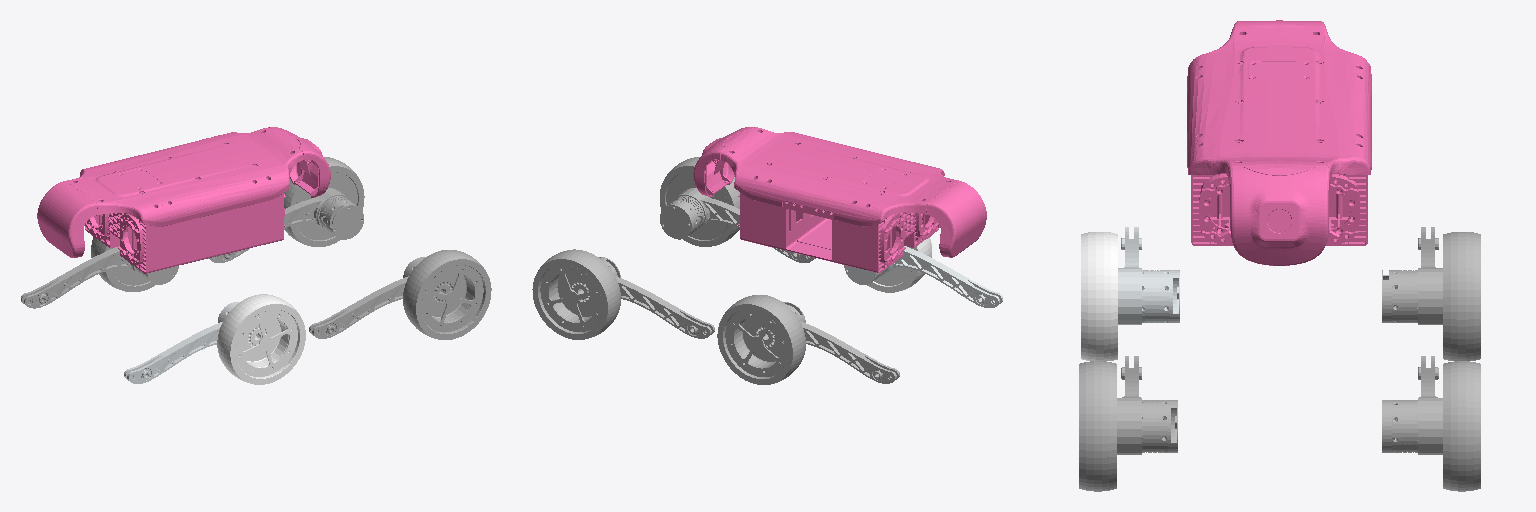
robot.urdf — Ddogw:
<?xml version="1.0" encoding="utf-8"?>

<robot name="Ddogw">
  <link name="base_link">
    <inertial>
        <origin xyz="-0.003493 0.001309 0.008923" rpy="0 0 0" />
      <mass value="7.3" />
      <inertia ixx="0.03727735" ixy="-0.000050632" ixz="0.00111826" iyy="0.131154395" iyz="0.000160446" izz="0.150359256" />
    </inertial>
    <visual>
      <origin xyz="0 0 0" rpy="0 0 0" />
      <geometry>
        <mesh filename="../meshes/base_link.STL" />
      </geometry>
      <material name="">
        <color rgba="1 0.5 0.75294 1" />
      </material>
    </visual>
    <collision>
      <origin xyz="0 0 0" rpy="0 0 0" />
      <geometry>
        <box size="0.28 0.216 0.112"/>
      </geometry>
    </collision>
  </link>

  <link name="FL_hip">
    <inertial>
      <origin xyz="-0.001963 0.001357 0" rpy="0 0 0" />
      <mass value="0.718" />
      <inertia ixx="0.000359936" ixy="-0.000004579" ixz="0.000000011" iyy="0.000431888" iyz="-0.000000013" izz="0.000398364" />
    </inertial>
    <visual>
      <origin xyz="0 0 0" rpy="0 0 0" />
      <geometry>
        <mesh filename="../meshes/FL_HIP_Link.STL" />
      </geometry>
      <material name="">
        <color rgba="0.75294 0.75294 0.75294 1" />
      </material>
    </visual>
    <collision>
      <origin xyz="0.0 0.0 0" rpy="1.57 0 0" />
      <geometry>
       <cylinder length="0.05" radius="0.03"/>
      </geometry>
    </collision>
  </link>

  <joint name="FL_hip_joint" type="revolute">
    <origin xyz="0.1875 0.062 0" rpy="0 0 0" />
    <parent link="base_link" />
    <child link="FL_hip" />
    <axis xyz="1 0 0" />
    <limit lower="-0.5" upper="0.5" effort="27" velocity="27" />
  </joint>

  <link name="FL_thigh">
    <inertial>
      <origin xyz="-0.002987 -0.02756 -0.021782" rpy="0 0 0" />
      <mass value="0.96" />
      <inertia ixx="0.003158375" ixy="-0.000079198" ixz="0.000246623" iyy="0.002941752" iyz="-0.000581791" izz="0.000812062" />
    </inertial>
    <visual>
      <origin xyz="0 0 0" rpy="0 0 0" />
      <geometry>
        <mesh filename="../meshes/FL_THIGH_Link.STL" />
      </geometry>
      <material name="">
        <color rgba="0.5 0.2 0.8 1.0" />
      </material>
    </visual>
    <collision>
      <origin xyz="0.0 -0.03 0" rpy="1.57 0 0" />
      <geometry>
        <cylinder length="0.10" radius="0.03"/>
      </geometry>
    </collision>
    <collision>
      <origin xyz="-0.015 0.0 -0.105" rpy="0.0 0 0" />
      <geometry>
        <cylinder length="0.10" radius="0.018"/>
      </geometry>
    </collision>
  </link>

  <joint name="FL_thigh_joint" type="revolute">
    <origin xyz="0 0.12 0" rpy="0 0 0" />
    <parent link="FL_hip" />
    <child link="FL_thigh" />
    <axis xyz="0 1 0" />
    <limit lower="-1.85" upper="3.4" effort="27" velocity="27" />
  </joint>

  <link name="FL_calf">
    <inertial>
      <origin xyz="0.001726 -0.01621 -0.191896" rpy="0 0 0" />
      <mass value="0.37" />
      <inertia ixx="0.004225328" ixy="0.000032167" ixz="-0.000103096" iyy="0.004090407" iyz="-0.000385909" izz="0.000762904" />
    </inertial>
    <visual>
      <origin xyz="0 0 0" rpy="0 0 0" />
      <geometry>
        <mesh filename="../meshes/FL_CALF_Link.STL" />
      </geometry>
      <material name="">
        <color rgba="0.75294 0.75294 0.75294 1" />
      </material>
    </visual>
    <collision>
      <origin xyz="0.018 0 -0.140" rpy="0 0.13 0" />
      <geometry>
        <cylinder length="0.06" radius="0.015"/>
      </geometry>
    </collision>
  </link>

  <link name="FL_foot_motor">
    <inertial>
      <origin xyz="0 0 0" rpy="0 0 0" />
      <mass value="0.50" />
      <inertia ixx="0.001" ixy="0" ixz="0" iyy="0.0015" iyz="0" izz="0.001" />
    </inertial>
    <collision>
      <origin xyz="0 0 0" rpy="1.57 0 0" />
      <geometry>
        <cylinder length="0.05" radius="0.03"/>
      </geometry>
    </collision>
  </link>
  <joint name="FL_foot_motor_joint" type="fixed" dont_collapse="true">
    <origin xyz="0 -0.01 -0.219" rpy="0 0 0" />
    <parent link="FL_calf" />
    <child link="FL_foot_motor" />
  </joint>

  <joint name="FL_calf_joint" type="revolute">
    <origin xyz="0 0 -0.2" rpy="0 0 0" />
    <parent link="FL_thigh" />
    <child link="FL_calf" />
    <axis xyz="0 1 0" />
    <limit lower="-2.757" upper="-0.66" effort="27" velocity="27" />
  </joint>

  <link name="FL_foot">
    <inertial>
      <origin xyz="0 0.037693 0" rpy="0 0 0" />
      <mass value="0.9" />
      <inertia ixx="0.001774065" ixy="0" ixz="0" iyy="0.003256651" iyz="0" izz="0.001774065" />
    </inertial>
    <visual>
      <origin xyz="0 0 0" rpy="0 0 0" />
      <geometry>
        <mesh filename="../meshes/FL_FOOT_Link.STL" />
      </geometry>
      <material name="">
        <color rgba="0.75294 0.75294 0.75294 1" />
      </material>
    </visual>
    <collision>
      <origin xyz="0.0 0.042 0.0" rpy="1.57 0 0" />
      <geometry>
        <cylinder length="0.038" radius="0.08"/>
      </geometry>
    </collision>
  </link>

  <joint name="FL_foot_joint" type="revolute">
    <origin xyz="0 0 -0.219" rpy="0 0 0" />
    <parent link="FL_calf" />
    <child link="FL_foot" />
    <axis xyz="0 1 0" />
    <limit lower="-999999" upper="999999" effort="27" velocity="27" />
  </joint>


  <link name="FR_hip">
    <inertial>
      <origin xyz="-0.001963 -0.001357 0" rpy="0 0 0" />
      <mass value="0.718" />
      <inertia ixx="0.000359936" ixy="0.000004579" ixz="-0.000000011" iyy="0.000431888" iyz="-0.000000013" izz="0.000398364" />
    </inertial>
    <visual>
      <origin xyz="0 0 0" rpy="0 0 0" />
      <geometry>
        <mesh filename="../meshes/FR_HIP_Link.STL" />
      </geometry>
      <material name="">
        <color rgba="0.75294 0.75294 0.75294 1" />
      </material>
    </visual>
    <collision>
      <origin xyz="0.0 0.0 0" rpy="1.57 0 0" />
      <geometry>
       <cylinder length="0.05" radius="0.03"/>
      </geometry>
    </collision>
  </link>

  <joint name="FR_hip_joint" type="revolute">
    <origin xyz="0.1875 -0.062 0" rpy="0 0 0" />
    <parent link="base_link" />
    <child link="FR_hip" />
    <axis xyz="1 0 0" />
    <limit lower="-0.5" upper="0.5" effort="27" velocity="27" />
  </joint>

  <link name="FR_thigh">
    <inertial>
      <origin xyz="-0.002987 0.02756 -0.021782" rpy="0 0 0" />
      <mass value="0.96" />
      <inertia ixx="0.003158375" ixy="0.000079198" ixz="0.000246623" iyy="0.002941752" iyz="0.000581791" izz="0.000812062" />
    </inertial>
    <visual>
      <origin xyz="0 0 0" rpy="0 0 0" />
      <geometry>
        <mesh filename="../meshes/FR_THIGH_Link.STL" />
      </geometry>
      <material name="">
        <color rgba="0.5 0.2 0.8 1.0" />
      </material>
    </visual>
    <collision>
      <origin xyz="0.0 0.03 0" rpy="1.57 0 0" />
      <geometry>
        <cylinder length="0.10" radius="0.03"/>
      </geometry>
    </collision>
    <collision>
      <origin xyz="-0.015 0.0 -0.105" rpy="0.0 0 0" />
      <geometry>
        <cylinder length="0.10" radius="0.018"/>
      </geometry>
    </collision>
  </link>


  <joint name="FR_thigh_joint" type="revolute">
    <origin xyz="0 -0.12 0" rpy="0 0 0" />
    <parent link="FR_hip" />
    <child link="FR_thigh" />
    <axis xyz="0 1 0" />
    <limit lower="-1.85" upper="3.4" effort="27" velocity="27" />
  </joint>

  <link name="FR_calf">
    <inertial>
      <origin xyz="0.001726 0.01621 -0.191896" rpy="0 0 0" />
      <mass value="0.37" />
      <inertia ixx="0.004225328" ixy="0.000032167" ixz="-0.000103096" iyy="0.004090407" iyz="0.000385909" izz="0.000762904" />
    </inertial>
    <visual>
      <origin xyz="0 0 0" rpy="0 0 0" />
      <geometry>
        <mesh filename="../meshes/FR_CALF_Link.STL" />
      </geometry>
      <material name="">
        <color rgba="0.75294 0.75294 0.75294 1" />
      </material>
    </visual>
    <collision>
      <origin xyz="0.018 0 -0.14" rpy="0 0.13 0" />
      <geometry>
        <cylinder length="0.06" radius="0.015"/>
      </geometry>
    </collision>
  </link>

  <link name="FR_foot_motor">
    <inertial>
      <origin xyz="0 0 0" rpy="0 0 0" />
      <mass value="0.50" />
      <inertia ixx="0.001" ixy="0" ixz="0" iyy="0.0015" iyz="0" izz="0.001" />
    </inertial>
    <collision>
      <origin xyz="0 0 0" rpy="1.57 0 0" />
      <geometry>
        <cylinder length="0.05" radius="0.03"/>
      </geometry>
    </collision>
  </link>
  <joint name="FR_foot_motor_joint" type="fixed" dont_collapse="true">
    <origin xyz="0 0.01 -0.219" rpy="0 0 0" />
    <parent link="FR_calf" />
    <child link="FR_foot_motor" />
  </joint>

  <joint name="FR_calf_joint" type="revolute">
    <origin xyz="0 0 -0.2" rpy="0 0 0" />
    <parent link="FR_thigh" />
    <child link="FR_calf" />
    <axis xyz="0 1 0" />
    <limit lower="-2.757" upper="-0.66" effort="27" velocity="27" />
  </joint>

  <link name="FR_foot">
    <inertial>
      <origin xyz="0 -0.037693 0" rpy="0 0 0" />
      <mass value="0.9" />
      <inertia ixx="0.001774065" ixy="0" ixz="0" iyy="0.003256651" iyz="0" izz="0.001774065" />
    </inertial>
    <visual>
      <origin xyz="0 0 0" rpy="0 0 0" />
      <geometry>
        <mesh filename="../meshes/FR_FOOT_Link.STL" />
      </geometry>
      <material name="">
        <color rgba="0.75294 0.75294 0.75294 1" />
      </material>
    </visual>
    <collision>
      <origin xyz="0.0 -0.042 0.0" rpy="1.57 0 0" />
      <geometry>
        <cylinder length="0.038" radius="0.08"/>
      </geometry>
    </collision>
  </link>

  <joint name="FR_foot_joint" type="revolute">
    <origin xyz="0 0 -0.219" rpy="0 0 0" />
    <parent link="FR_calf" />
    <child link="FR_foot" />
    <axis xyz="0 1 0" />
    <limit lower="-999999" upper="999999" effort="27" velocity="27" />
  </joint>


  <link name="RL_hip">
    <inertial>
      <origin xyz="0.001963 0.001357 0" rpy="0 0 0" />
      <mass value="0.718" />
      <inertia ixx="0.000359936" ixy="0.000004579" ixz="0.000000011" iyy="0.000431888" iyz="0.000000013" izz="0.000398364" />
    </inertial>
    <visual>
      <origin xyz="0 0 0" rpy="0 0 0" />
      <geometry>
        <mesh filename="../meshes/RL_HIP_Link.STL" />
      </geometry>
      <material name="">
        <color rgba="0.75294 0.75294 0.75294 1" />
      </material>
    </visual>
    <collision>
      <origin xyz="0.0 0.0 0" rpy="1.57 0 0" />
      <geometry>
       <cylinder length="0.05" radius="0.03"/>
      </geometry>
    </collision>
  </link>
  <joint name="RL_hip_joint" type="revolute">
    <origin xyz="-0.1875 0.062 0" rpy="0 0 0" />
    <parent link="base_link" />
    <child link="RL_hip" />
    <axis xyz="1 0 0" />
    <limit lower="-0.5" upper="0.5" effort="27" velocity="27" />
  </joint>
  <link name="RL_thigh">
    <inertial>
      <origin xyz="-0.002987 -0.02756 -0.021782" rpy="0 0 0" />
      <mass value="0.96" />
      <inertia ixx="0.003158375" ixy="-0.000079198" ixz="0.000246623" iyy="0.002941752" iyz="-0.000581791" izz="0.000812062" />
    </inertial>
    <visual>
      <origin xyz="0 0 0" rpy="0 0 0" />
      <geometry>
        <mesh filename="../meshes/RL_THIGH_Link.STL" />
      </geometry>
      <material name="">
        <color rgba="0.5 0.2 0.8 1.0" />
      </material>
    </visual>
    <collision>
      <origin xyz="0.0 -0.03 0" rpy="1.57 0 0" />
      <geometry>
        <cylinder length="0.10" radius="0.03"/>
      </geometry>
    </collision>
    <collision>
      <origin xyz="-0.015 0.0 -0.105" rpy="0.0 0 0" />
      <geometry>
        <cylinder length="0.10" radius="0.018"/>
      </geometry>
    </collision>
  </link>

  <joint name="RL_thigh_joint" type="revolute">
    <origin xyz="0 0.12 0" rpy="0 0 0" />
    <parent link="RL_hip" />
    <child link="RL_thigh" />
    <axis xyz="0 1 0" />
    <limit lower="-1.85" upper="3.4" effort="27" velocity="27" />
  </joint>

  <link name="RL_calf">
    <inertial>
      <origin xyz="0.001726 -0.01621 -0.191896" rpy="0 0 0" />
      <mass value="0.37" />
      <inertia ixx="0.004225328" ixy="-0.000032167" ixz="-0.000103096" iyy="0.004090407" iyz="-0.000385909" izz="0.000762904" />
    </inertial>
    <visual>
      <origin xyz="0 0 0" rpy="0 0 0" />
      <geometry>
        <mesh filename="../meshes/RL_CALF_Link.STL" />
      </geometry>
      <material name="">
        <color rgba="0.75294 0.75294 0.75294 1" />
      </material>
    </visual>
    <collision>
      <origin xyz="0.018 0 -0.14" rpy="0 0.13 0" />
      <geometry>
        <cylinder length="0.06" radius="0.015"/>
      </geometry>
    </collision>
  </link>

  <link name="RL_foot_motor">
    <inertial>
      <origin xyz="0 0 0" rpy="0 0 0" />
      <mass value="0.50" />
      <inertia ixx="0.001" ixy="0" ixz="0" iyy="0.0015" iyz="0" izz="0.001" />
    </inertial>
    <collision>
      <origin xyz="0 0 0" rpy="1.57 0 0" />
      <geometry>
        <cylinder length="0.05" radius="0.03"/>
      </geometry>
    </collision>
  </link>
  <joint name="RL_foot_motor_joint" type="fixed" dont_collapse="true">
    <origin xyz="0 -0.01 -0.219" rpy="0 0 0" />
    <parent link="RL_calf" />
    <child link="RL_foot_motor" />
  </joint>

  <joint name="RL_calf_joint" type="revolute">
    <origin xyz="0 0 -0.2" rpy="0 0 0" />
    <parent link="RL_thigh" />
    <child link="RL_calf" />
    <axis xyz="0 1 0" />
    <limit lower="-2.757" upper="-0.66" effort="27" velocity="27" />
  </joint>

  <link name="RL_foot">
    <inertial>
      <origin xyz="0 0.037693 0" rpy="0 0 0" />
      <mass value="0.9" />
      <inertia ixx="0.001774065" ixy="0" ixz="0" iyy="0.003256651" iyz="0" izz="0.001774065" />
    </inertial>
    <visual>
      <origin xyz="0 0 0" rpy="0 0 0" />
      <geometry>
        <mesh filename="../meshes/RL_FOOT_Link.STL" />
      </geometry>
      <material name="">
        <color rgba="0.75294 0.75294 0.75294 1" />
      </material>
    </visual>
    <collision>
      <origin xyz="0.0 0.042 0.0" rpy="1.57 0 0" />
      <geometry>
        <cylinder length="0.038" radius="0.08"/>
      </geometry>
    </collision>
  </link>
  <joint name="RL_foot_joint" type="revolute">
    <origin xyz="0 0 -0.219" rpy="0 0 0" />
    <parent link="RL_calf" />
    <child link="RL_foot" />
    <axis xyz="0 1 0" />
    <limit lower="-999999" upper="999999" effort="27" velocity="27" />
  </joint>

  <link name="RR_hip">
    <inertial>
      <origin xyz="0.001963 -0.001357 0" rpy="0 0 0" />
      <mass value="0.718" />
      <inertia ixx="0.000359936" ixy="-0.000004579" ixz="-0.000000011" iyy="0.000431888" iyz="0.000000013" izz="0.000398364" />
    </inertial>
    <visual>
      <origin xyz="0 0 0" rpy="0 0 0" />
      <geometry>
        <mesh filename="../meshes/RR_HIP_Link.STL" />
      </geometry>
      <material name="">
        <color rgba="0.77647 0.75686 0.73725 1" />
      </material>
    </visual>
    <collision>
      <origin xyz="0.0 0.0 0" rpy="1.57 0 0" />
      <geometry>
       <cylinder length="0.05" radius="0.03"/>
      </geometry>
    </collision>
  </link>

  <joint name="RR_hip_joint" type="revolute">
    <origin xyz="-0.1875 -0.062 0" rpy="0 0 0" />
    <parent link="base_link" />
    <child link="RR_hip" />
    <axis xyz="1 0 0" />
    <limit lower="-0.5" upper="0.5" effort="27" velocity="27" />
  </joint>

  <link name="RR_thigh">
    <inertial>
      <origin xyz="-0.002987 0.02756 -0.021782" rpy="0 0 0" />
      <mass value="0.96" />
      <inertia ixx="0.003158375" ixy="0.000079198" ixz="0.000246623" iyy="0.002941752" iyz="0.000581791" izz="0.000812062" />
    </inertial>
    <visual>
      <origin xyz="0 0 0" rpy="0 0 0" />
      <geometry>
        <mesh filename="../meshes/RR_THIGH_Link.STL" />
      </geometry>
      <material name="">
        <color rgba="0.5 0.2 0.8 1.0" />
      </material>
    </visual>
    <collision>
      <origin xyz="0.0 0.03 0" rpy="1.57 0 0" />
      <geometry>
        <cylinder length="0.10" radius="0.03"/>
      </geometry>
    </collision>
    <collision>
      <origin xyz="-0.015 0.0 -0.105" rpy="0.0 0 0" />
      <geometry>
        <cylinder length="0.10" radius="0.018"/>
      </geometry>
    </collision>
  </link>

  <joint name="RR_thigh_joint" type="revolute">
    <origin xyz="0 -0.12 0" rpy="0 0 0" />
    <parent link="RR_hip" />
    <child link="RR_thigh" />
    <axis xyz="0 1 0" />
    <limit lower="-1.85" upper="3.4" effort="27" velocity="27" />
  </joint>

  <link name="RR_calf">
    <inertial>
      <origin xyz="0.001726 0.01621 -0.191896" rpy="0 0 0" />
      <mass value="0.37" />
      <inertia ixx="0.004225328" ixy="0.000032167" ixz="-0.000103096" iyy="0.004090407" iyz="0.000385909" izz="0.000762904" />
    </inertial>
    <visual>
      <origin xyz="0 0 0" rpy="0 0 0" />
      <geometry>
        <mesh filename="../meshes/RR_CALF_Link.STL" />
      </geometry>
      <material name="">
        <color rgba="0.89804 0.91765 0.92941 1" />
      </material>
    </visual>
    <collision>
      <origin xyz="0.018 0 -0.14"
        rpy=" 0 0.13 0" />
      <geometry>
        <cylinder length="0.06" radius="0.015"/>
      </geometry>
    </collision>
  </link>

  <link name="RR_foot_motor">
    <inertial>
      <origin xyz="0 0 0" rpy="0 0 0" />
      <mass value="0.50" />
      <inertia ixx="0.001" ixy="0" ixz="0" iyy="0.0015" iyz="0" izz="0.001" />
    </inertial>
    <collision>
      <origin xyz="0 0 0" rpy="1.57 0 0" />
      <geometry>
        <cylinder length="0.05" radius="0.03"/>
      </geometry>
    </collision>
  </link>
  <joint name="RR_foot_motor_joint" type="fixed" dont_collapse="true">
    <origin xyz="0 0.01 -0.219" rpy="0 0 0" />
    <parent link="RR_calf" />
    <child link="RR_foot_motor" />
  </joint>

  <joint name="RR_calf_joint" type="revolute">
    <origin xyz="0 0 -0.2" rpy="0 0 0" />
    <parent link="RR_thigh" />
    <child link="RR_calf" />
    <axis xyz="0 1 0" />
    <limit lower="-2.757" upper="-0.66" effort="27" velocity="27" />
  </joint>

  <link name="RR_foot">
    <inertial>
      <origin xyz="0 -0.037693 0" rpy="0 0 0" />
      <mass value="0.9" />
      <inertia ixx="0.001774065" ixy="0" ixz="0" iyy="0.003256651" iyz="0" izz="0.001774065" />
    </inertial>
    <visual>
      <origin xyz="0 0 0" rpy="0 0 0" />
      <geometry>
        <mesh filename="../meshes/RR_FOOT_Link.STL" />
      </geometry>
      <material name="">
        <color rgba="1 1 1 1" />
      </material>
    </visual>
    <collision>
      <origin xyz="0.0 -0.042 0.0" rpy="1.57 0 0" />
      <geometry>
        <cylinder length="0.038" radius="0.08"/>
      </geometry>
    </collision>
  </link>

  <joint name="RR_foot_joint" type="revolute">
    <origin xyz="0 0 -0.219" rpy="0 0 0" />
    <parent link="RR_calf" />
    <child link="RR_foot" />
    <axis xyz="0 1 0" />
    <limit lower="-999999" upper="999999" effort="27" velocity="27" />
  </joint>
</robot>

--- Facts derived from the render (not from the file) ---
The picture shows the robot from 3 angles, left to right: view 1: azimuth 30°, elevation 25°; view 2: azimuth 150°, elevation 25°; view 3: azimuth 270°, elevation 25°; orthographic projection.
Model Ddogw with 21 links and 20 joints (16 revolute, 4 fixed), rooted at base_link, posed joints at zero except 4 at the middle of their limits (FL_calf_joint = -1.71, FR_calf_joint = -1.71, RL_calf_joint = -1.71, RR_calf_joint = -1.71).
Links seen in each view (by area): view 1: base_link, RR_foot, FR_foot, FL_calf, RL_calf, FL_foot, FR_calf, RR_calf, RL_foot; view 2: base_link, FL_foot, RL_foot, FR_calf, RR_calf, FR_foot, FL_calf, RL_calf, RR_foot; view 3: base_link, FL_foot, FR_foot, RL_foot, RR_foot, RR_calf, FL_calf, FR_calf, RL_calf.
Boxes of the visible links, x1=… form: base_link: x1=37, y1=127, x2=330, y2=273; RR_foot: x1=217, y1=294, x2=305, y2=384; FR_foot: x1=403, y1=250, x2=491, y2=339; FL_calf: x1=208, y1=188, x2=363, y2=262; RL_calf: x1=21, y1=246, x2=178, y2=308; FL_foot: x1=284, y1=157, x2=364, y2=246; FR_calf: x1=309, y1=257, x2=425, y2=338; RR_calf: x1=124, y1=302, x2=239, y2=383; RL_foot: x1=91, y1=237, x2=156, y2=291; base_link: x1=693, y1=127, x2=986, y2=272; FL_foot: x1=532, y1=249, x2=620, y2=339; RL_foot: x1=717, y1=295, x2=805, y2=384; FR_calf: x1=660, y1=188, x2=815, y2=262; RR_calf: x1=844, y1=246, x2=1002, y2=307; FR_foot: x1=660, y1=157, x2=739, y2=246; FL_calf: x1=598, y1=257, x2=714, y2=338; RL_calf: x1=783, y1=302, x2=899, y2=383; RR_foot: x1=867, y1=238, x2=931, y2=292; base_link: x1=1187, y1=20, x2=1371, y2=265; FL_foot: x1=1443, y1=361, x2=1480, y2=491; FR_foot: x1=1079, y1=361, x2=1116, y2=491; RL_foot: x1=1443, y1=232, x2=1480, y2=360; RR_foot: x1=1081, y1=232, x2=1117, y2=361; RR_calf: x1=1118, y1=227, x2=1179, y2=324; FL_calf: x1=1382, y1=356, x2=1442, y2=454; FR_calf: x1=1117, y1=356, x2=1177, y2=454; RL_calf: x1=1382, y1=227, x2=1442, y2=324.
Size in the robot's own frame: 0.7512 by 0.492 by 0.3385 metres.
9 mesh visuals loaded from 17 distinct referenced files (9 binary STL); not drawn: 8 (reference not matched to a file when rendering).
